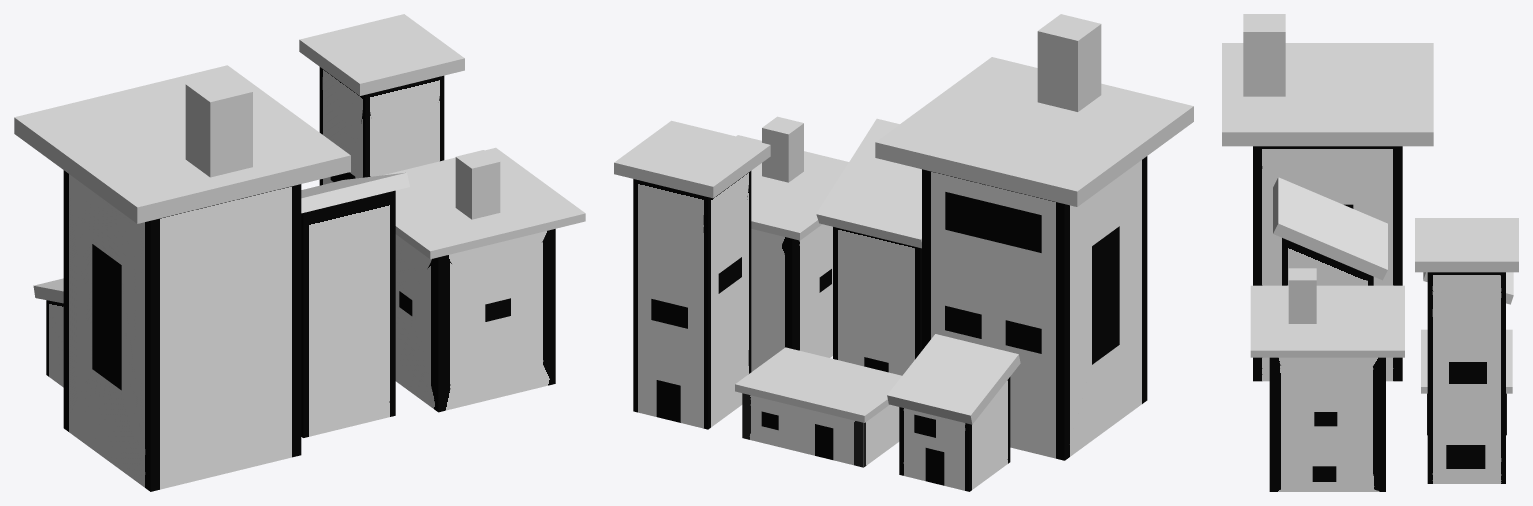
The model's file is House_all.glb.
3 views of the same model, side by side, from view 1: azimuth 30°, elevation 25°; view 2: azimuth 150°, elevation 25°; view 3: azimuth 270°, elevation 25° (orthographic). The views are drawn at different scales.
Visible parts, largest first — view 1: House5, House6, House4, House3, House2; view 2: House5, House3, House4, House6, House2, House1; view 3: House5, House6, House3, House4, House1.
Boxes of the visible parts, x1,y1,x2,y2 form: House5: [14, 65, 350, 491]; House6: [383, 147, 585, 412]; House4: [301, 172, 409, 437]; House3: [299, 14, 464, 185]; House2: [33, 278, 63, 387]; House5: [875, 14, 1193, 460]; House3: [614, 120, 770, 429]; House4: [816, 118, 921, 375]; House6: [736, 116, 848, 371]; House2: [887, 334, 1020, 491]; House1: [735, 347, 901, 467]; House5: [1222, 14, 1433, 381]; House6: [1250, 268, 1404, 491]; House3: [1415, 218, 1518, 483]; House4: [1273, 177, 1387, 285]; House1: [1421, 329, 1512, 435].
Size of the model in its own units: 3.65 by 2.85 by 2.35.
Materials: 9 (5 with a texture image).
